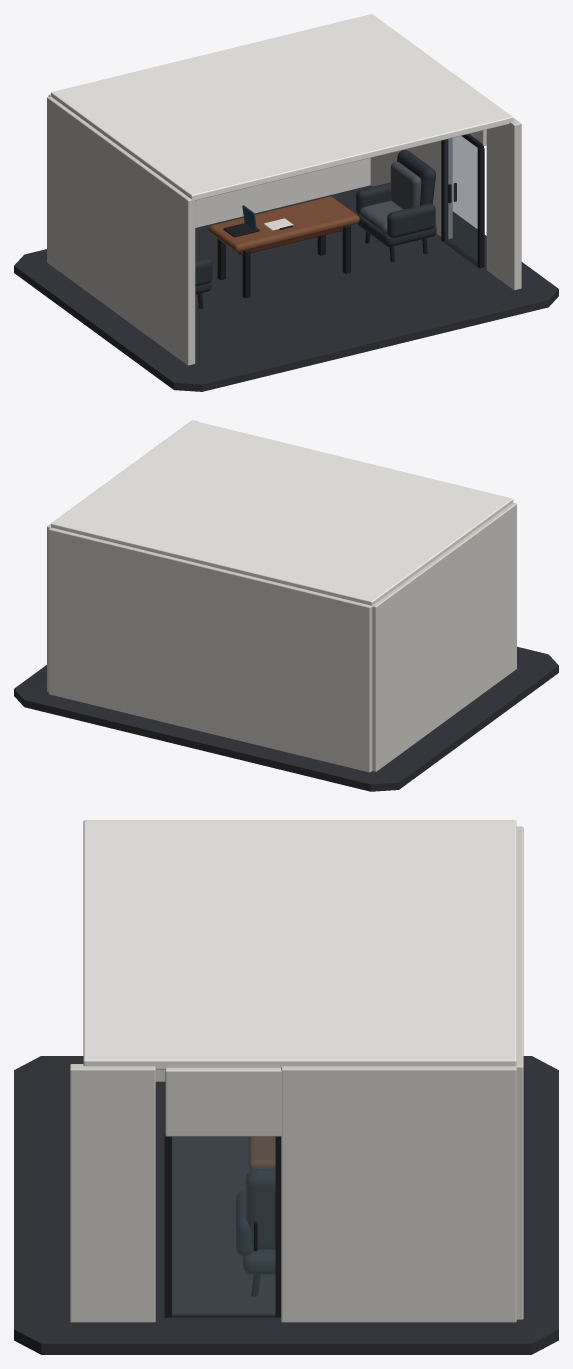
File: team4-interview-room.glb
The picture shows the model from 3 angles, top to bottom: view 1: azimuth 30°, elevation 25°; view 2: azimuth 150°, elevation 25°; view 3: azimuth 270°, elevation 25°; orthographic projection. The views are drawn at different scales.
Visible parts, largest first — view 1: TEAM4_Ceiling, Cube, TEAM4_Left_Wall, TEAM4_Right_Wall_Front, TEAM4_Back_Wall, TEAM4_Table_Top, TEAM4_Glass_Door, TEAM4_Right_Wall_Back, TEAM4_Armchair_Right_Arm_R, TEAM4_Armchair_Right_BackCushion, TEAM4_Armchair_Right_Back, TEAM4_Door_Frame_Left (+4 smaller); view 2: TEAM4_Back_Wall, TEAM4_Ceiling, TEAM4_Left_Wall, Cube; view 3: TEAM4_Ceiling, TEAM4_Right_Wall_Back, Cube, TEAM4_Right_Wall_Front, TEAM4_Glass_Door, TEAM4_Door_Header, TEAM4_Back_Wall, TEAM4_Armchair_Right_Back, TEAM4_Door_Frame_Left, TEAM4_Door_Frame_Right, TEAM4_Table_Top, TEAM4_Armchair_Right_Arm_R (+1 smaller).
Part boxes in pixels (x1,y1,x2,y2): TEAM4_Ceiling: (51,14,513,200); Cube: (14,185,558,391); TEAM4_Left_Wall: (47,96,195,365); TEAM4_Right_Wall_Front: (486,118,521,290); TEAM4_Back_Wall: (48,94,370,227); TEAM4_Table_Top: (208,196,359,252); TEAM4_Glass_Door: (445,136,477,264); TEAM4_Right_Wall_Back: (370,138,452,238); TEAM4_Armchair_Right_Arm_R: (387,203,435,238); TEAM4_Armchair_Right_BackCushion: (390,161,421,209); TEAM4_Armchair_Right_Back: (397,150,435,205); TEAM4_Door_Frame_Left: (477,148,484,268); TEAM4_Back_Wall: (48,527,372,772); TEAM4_Ceiling: (51,420,513,605); TEAM4_Left_Wall: (372,502,516,771); Cube: (14,646,558,791); TEAM4_Ceiling: (83,820,516,1069); TEAM4_Right_Wall_Back: (281,1066,516,1322); Cube: (14,1056,558,1354); TEAM4_Right_Wall_Front: (70,1064,155,1322); TEAM4_Glass_Door: (172,1136,275,1315); TEAM4_Door_Header: (165,1067,281,1136); TEAM4_Back_Wall: (516,826,523,1319); TEAM4_Armchair_Right_Back: (245,1169,275,1249); TEAM4_Door_Frame_Left: (164,1132,171,1317); TEAM4_Door_Frame_Right: (275,1136,280,1317); TEAM4_Table_Top: (248,1136,275,1170); TEAM4_Armchair_Right_Arm_R: (236,1190,253,1256).
Bounding box in the file's own units: 10 × 4.4 × 8.
